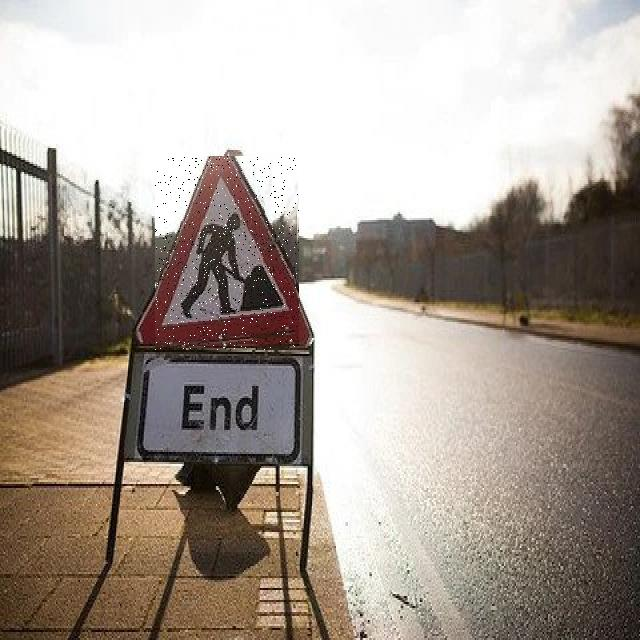roadwork: (155, 156, 299, 350)
